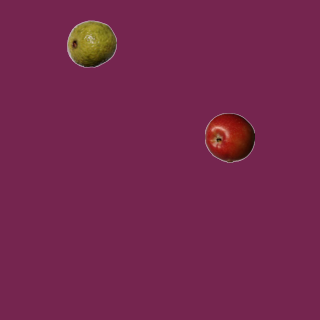Apple Braeburn: (204, 112, 254, 162)
Guava: (66, 18, 116, 68)
